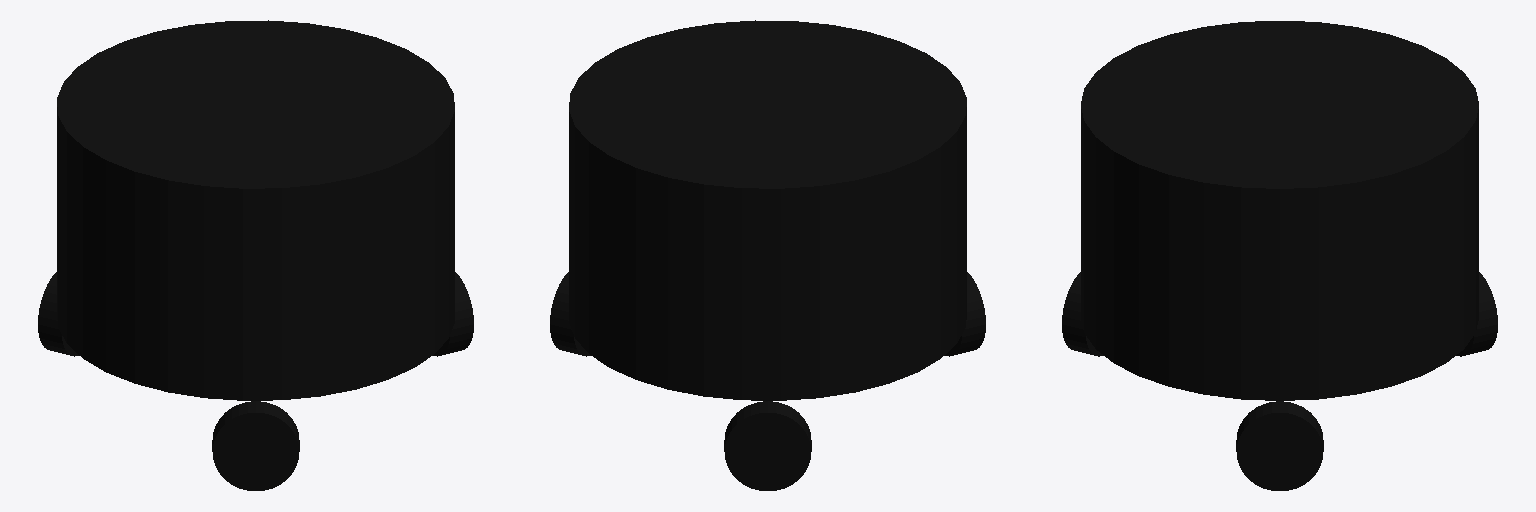
The robot description file, URDF, robot "trw":
<?xml version="1.0" ?>
<!-- =================================================================================== -->
<!-- |    This document was autogenerated by xacro from xacro/trw.urdf.xacro           | -->
<!-- |    EDITING THIS FILE BY HAND IS NOT RECOMMENDED                                 | -->
<!-- =================================================================================== -->
<robot name="trw" xmlns:xacro="http://www.ros.org/wiki/xacro">
  <!-- naming convention for pi consistent with ROS Jade -->
  <!-- ========================================================================= -->
  <!-- Properties -->
  <!-- ========================================================================= -->
  <!-- RealSense R200 Definition -->
  <!-- bounding box of R200 module-->
  <!-- R200 parameters -->
  <!-- mount correction -->
  <!-- offset of RGB sensor relative to camera origin -->
  <!-- offset of origin of depth imager from rgb imager -->
  <!-- ///////////////////////////////////////////////////////////////////////// -->
  <!-- ///////////////////////////////////////////////////////////////////////// -->
  <!-- Simplify the specification of intertial properties -->
  <!-- ///////////////////////////////////////////////////////////////////////// -->
  <!-- Define a wheel, offset from the center and rotated -->
  <!-- ========================================================================= -->
  <!-- Main definitions -->
  <!-- following name is assumed by various things.  In this robot,
       for simplicity base_link and base_footprint are the same -->
  <link name="base_footprint">
    <origin rpy="0 0 0" xyz="0 0 0"/>
  </link>
  <joint name="footprint_to_base" type="fixed">
    <parent link="base_footprint"/>
    <child link="base_link"/>
  </joint>
  <!-- the base of the robot, defining the origin of its overall 
       coordinate system -->
  <link name="base_link">
    <origin rpy="0 0 0" xyz="0 0 0"/>
  </link>
  <!-- instantiate three wheels -->
  <joint name="base_to_wheel0" type="fixed">
    <parent link="base_link"/>
    <child link="wheel0"/>
    <origin rpy="0 0 0.0" xyz="0 0 0"/>
  </joint>
  <link name="wheel0">
    <visual>
      <geometry>
        <cylinder length="0.015" radius="0.024"/>
      </geometry>
      <material name="darkgrey">
        <color rgba="0.1 0.1 0.1 1"/>
      </material>
      <origin rpy="0 1.57079632679 0" xyz="0.1175 0 0.024"/>
    </visual>
    <collision>
      <geometry>
        <cylinder length="0.015" radius="0.024"/>
      </geometry>
      <origin rpy="0 1.57079632679 0" xyz="0.1175 0 0.024"/>
    </collision>
    <inertial>
      <mass value="0.05"/>
      <inertia ixx="1.0" ixy="0.0" ixz="0.0" iyy="1.0" iyz="0.0" izz="1.0"/>
    </inertial>
  </link>
  <joint name="base_to_wheel1" type="fixed">
    <parent link="base_link"/>
    <child link="wheel1"/>
    <origin rpy="0 0 2.09439510239" xyz="0 0 0"/>
  </joint>
  <link name="wheel1">
    <visual>
      <geometry>
        <cylinder length="0.015" radius="0.024"/>
      </geometry>
      <material name="darkgrey">
        <color rgba="0.1 0.1 0.1 1"/>
      </material>
      <origin rpy="0 1.57079632679 0" xyz="0.1175 0 0.024"/>
    </visual>
    <collision>
      <geometry>
        <cylinder length="0.015" radius="0.024"/>
      </geometry>
      <origin rpy="0 1.57079632679 0" xyz="0.1175 0 0.024"/>
    </collision>
    <inertial>
      <mass value="0.05"/>
      <inertia ixx="1.0" ixy="0.0" ixz="0.0" iyy="1.0" iyz="0.0" izz="1.0"/>
    </inertial>
  </link>
  <joint name="base_to_wheel2" type="fixed">
    <parent link="base_link"/>
    <child link="wheel2"/>
    <origin rpy="0 0 4.18879020479" xyz="0 0 0"/>
  </joint>
  <link name="wheel2">
    <visual>
      <geometry>
        <cylinder length="0.015" radius="0.024"/>
      </geometry>
      <material name="darkgrey">
        <color rgba="0.1 0.1 0.1 1"/>
      </material>
      <origin rpy="0 1.57079632679 0" xyz="0.1175 0 0.024"/>
    </visual>
    <collision>
      <geometry>
        <cylinder length="0.015" radius="0.024"/>
      </geometry>
      <origin rpy="0 1.57079632679 0" xyz="0.1175 0 0.024"/>
    </collision>
    <inertial>
      <mass value="0.05"/>
      <inertia ixx="1.0" ixy="0.0" ixz="0.0" iyy="1.0" iyz="0.0" izz="1.0"/>
    </inertial>
  </link>
  <joint name="base_to_body" type="fixed">
    <parent link="base_link"/>
    <child link="body"/>
    <origin rpy="0 0 0" xyz="0 0 0.1125"/>
  </joint>
  <link name="body">
    <visual>
      <geometry>
        <cylinder length="0.129" radius="0.11"/>
      </geometry>
      <material name="darkgrey">
        <color rgba="0.1 0.1 0.1 1"/>
      </material>
    </visual>
    <collision>
      <geometry>
        <cylinder length="0.129" radius="0.11"/>
      </geometry>
    </collision>
    <inertial>
      <mass value="1"/>
      <inertia ixx="1.0" ixy="0.0" ixz="0.0" iyy="1.0" iyz="0.0" izz="1.0"/>
    </inertial>
  </link>
  <joint name="body_to_camera_mount" type="fixed">
    <parent link="body"/>
    <child link="camera_mount"/>
    <origin rpy="0 0 0" xyz="-0.03 0 0.1245"/>
  </joint>
  <link name="camera_mount"/>
  <!-- RGB joints & links -->
  <joint name="camera_rgb_joint" type="fixed">
    <origin rpy="0 0 0" xyz="0.003 -0.0494 0.0035"/>
    <parent link="camera_mount"/>
    <child link="camera_rgb_frame"/>
  </joint>
  <link name="camera_rgb_frame"/>
  <!-- RGB optical frame is rotated relative to the camera -->
  <joint name="camera_rgb_optical_joint" type="fixed">
    <origin rpy="-1.57079632679 0 -1.57079632679" xyz="0 0 0"/>
    <parent link="camera_rgb_frame"/>
    <child link="camera_rgb_optical_frame"/>
  </joint>
  <link name="camera_rgb_optical_frame"/>
  <!-- The physical camera -->
  <joint name="camera_joint" type="fixed">
    <origin rpy="0 0 0" xyz="0.003 -0.0494 0.0035"/>
    <parent link="camera_mount"/>
    <child link="camera_link"/>
  </joint>
  <joint name="camera_joint_box" type="fixed">
    <parent link="camera_mount"/>
    <child link="camera_link_box"/>
  </joint>
  <link name="camera_link">
    <visual>
      <origin rpy="1.57079632679 0 1.57079632679" xyz="-0.0088 0.1034 -0.0483"/>
      <geometry>
        <mesh filename="package://whr_description/meshes/sensors/r200_entire.dae"/>
      </geometry>
    </visual>
    <!-- This inertial field needs doesn't contain reliable data!! -->
    <inertial>
      <mass value="0.564"/>
      <origin xyz="0 0 0"/>
      <inertia ixx="0.003881243" ixy="0.0" ixz="0.0" iyy="0.000498940" iyz="0.0" izz="0.003879257"/>
    </inertial>
  </link>
  <!-- just for collision -->
  <link name="camera_link_box">
    <collision>
      <geometry>
        <box size="0.007 0.13 0.02"/>
      </geometry>
    </collision>
  </link>
  <!-- Depth joints & links -->
  <joint name="camera_depth_joint" type="fixed">
    <origin rpy="0 0 0" xyz="0 0.0274 0"/>
    <parent link="camera_rgb_frame"/>
    <child link="camera_depth_frame"/>
  </joint>
  <link name="camera_depth_frame"/>
  <!-- Depth optical frame is rotated relative to the camera -->
  <joint name="camera_depth_optical_joint" type="fixed">
    <origin rpy="-1.57079632679 0 -1.57079632679" xyz="0 0 0"/>
    <parent link="camera_depth_frame"/>
    <child link="camera_depth_optical_frame"/>
  </joint>
  <link name="camera_depth_optical_frame"/>
</robot>

--- What the picture shows (computed from the rendered views, not written in the file) ---
The picture shows the robot from 3 angles, left to right: view 1: azimuth 30°, elevation 25°; view 2: azimuth 150°, elevation 25°; view 3: azimuth 270°, elevation 25°; orthographic projection.
Robot: trw — 13 links, 12 joints (12 fixed); root link base_footprint; default pose: every joint at zero.
Links seen in each view (by area): view 1: body, wheel2, wheel1, wheel0; view 2: body, wheel1, wheel2, wheel0; view 3: body, wheel0, wheel1, wheel2.
Link boxes in pixels (<box>): body: <box>57,20,454,400</box>; wheel2: <box>212,401,299,490</box>; wheel1: <box>38,272,78,356</box>; wheel0: <box>433,272,473,356</box>; body: <box>569,20,966,400</box>; wheel1: <box>724,401,811,490</box>; wheel2: <box>945,272,985,356</box>; wheel0: <box>550,272,590,356</box>; body: <box>1081,21,1478,400</box>; wheel0: <box>1236,401,1323,490</box>; wheel1: <box>1456,272,1497,356</box>; wheel2: <box>1062,272,1103,356</box>.
Size in the robot's own frame: 0.235 by 0.2405 by 0.177 metres.
0 mesh visuals loaded from 1 distinct referenced files (none loaded); not drawn: 1 (reference not matched to a file when rendering).
